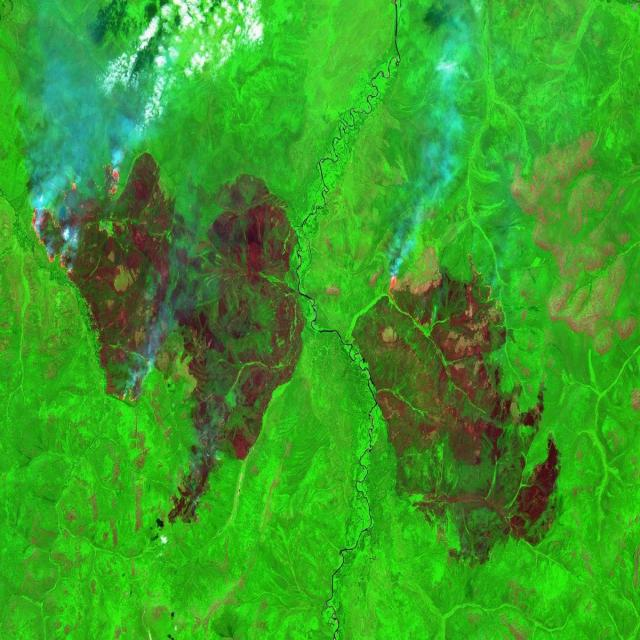fire: (28, 156, 122, 283), (382, 262, 416, 307), (480, 272, 507, 320), (114, 374, 139, 411)
